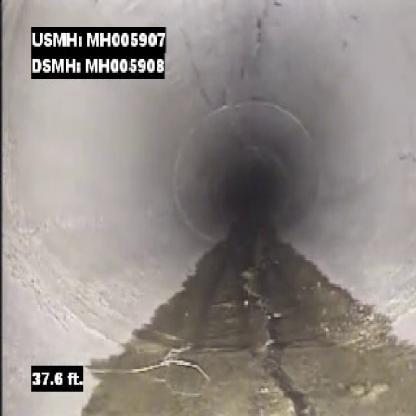crack: (216, 9, 304, 90)
hole: (240, 252, 329, 414)
